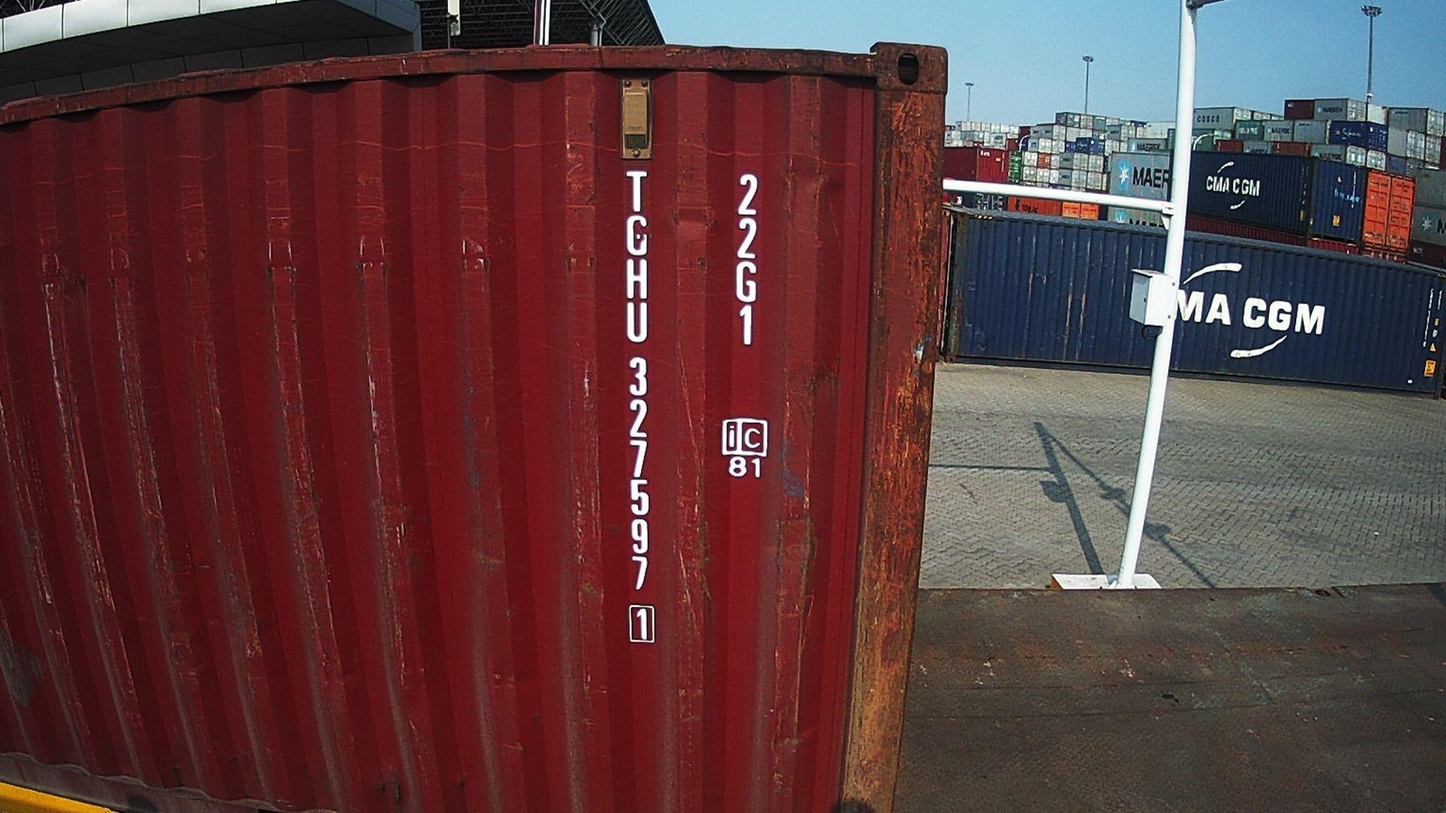container-numbers: (618, 164, 659, 647), (728, 170, 765, 352)
